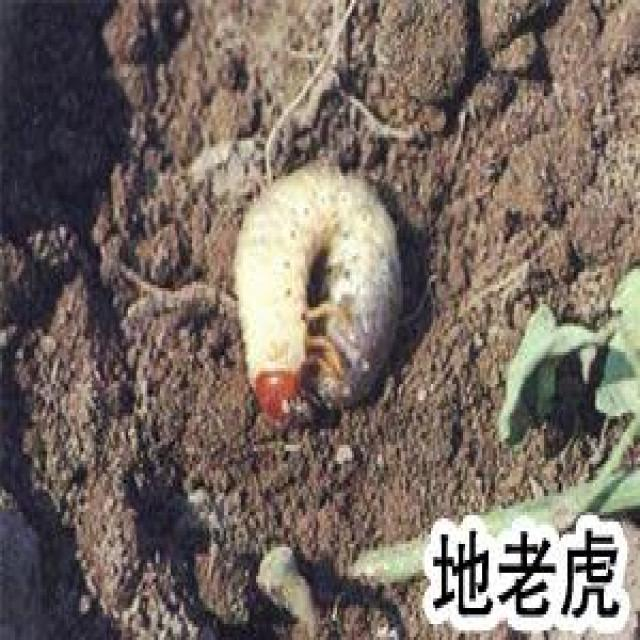Grub-Adult-: (212, 156, 408, 444)
